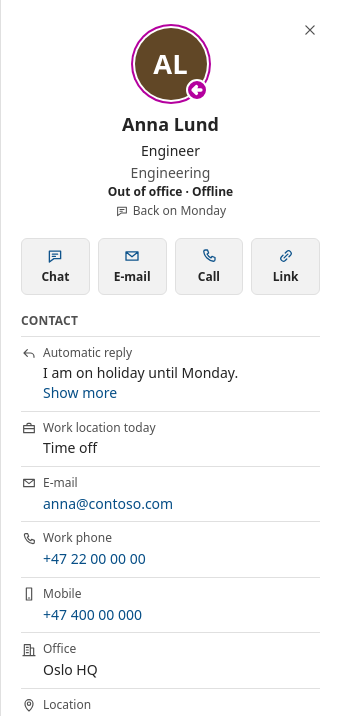
it: EmployeeDetailsPanel › with Teams presence › cuts a reply longer than three lines with Show more, which shows the rest and then less again
This screenshot has width=337, height=716.
Expected: the text "I am on holiday until Monday." is shown, [43,363,238,382]
Click the button "Show more" at (80, 393), box [43,383,117,403]
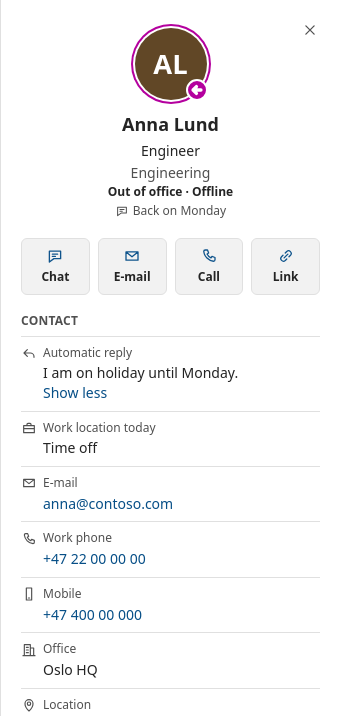
Result: the button "Show less" is expanded
Click the button "Show less" at (75, 393), box [43,383,107,403]
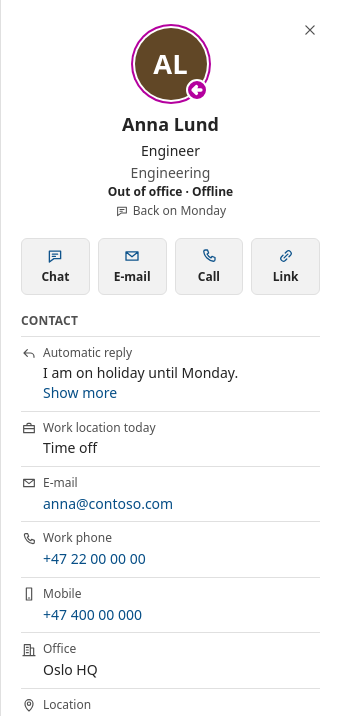
Result: the button "Show more" is shown at [43,383,117,403]
